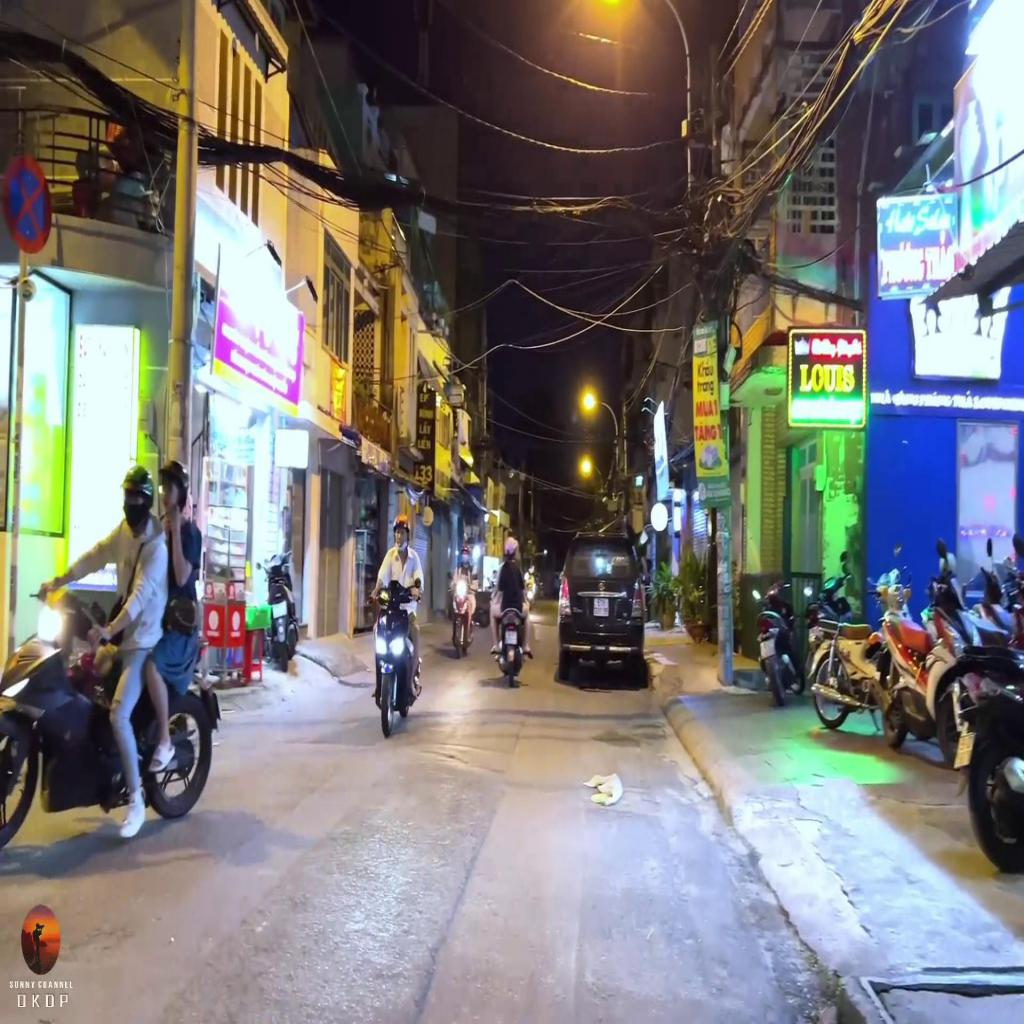cam_dung_xe_va_do_xe: (4, 154, 51, 252)
